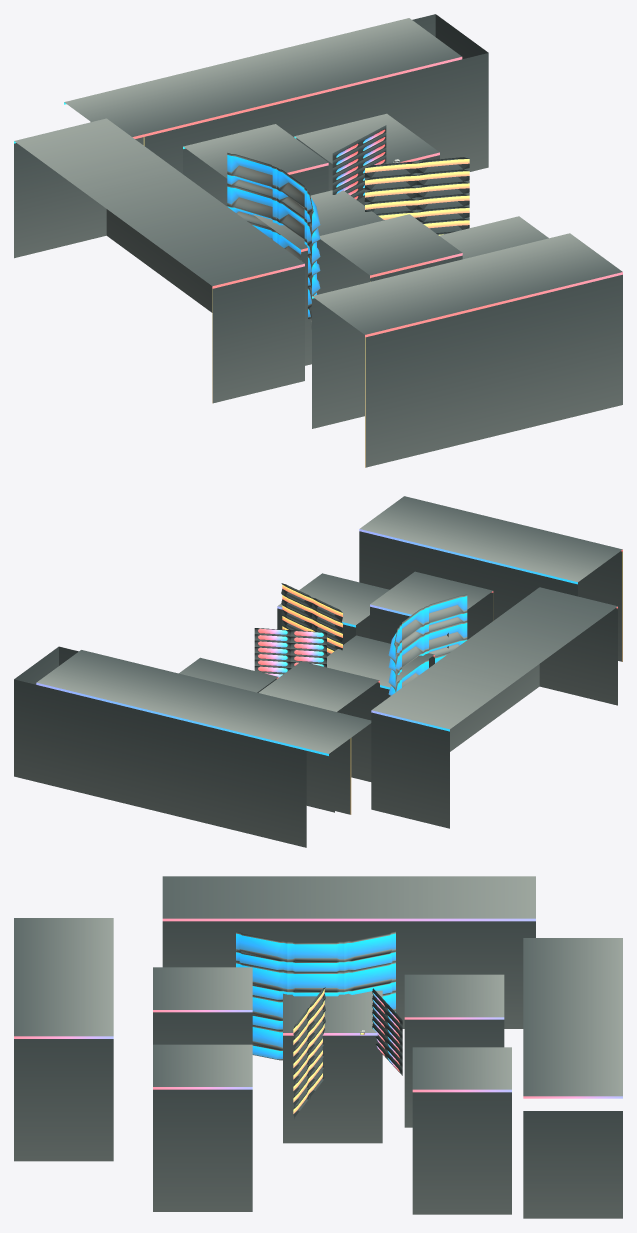
File: Cyberpunk_Scene0.2.glb
3 views of the same model, one above another, from view 1: azimuth 30°, elevation 25°; view 2: azimuth 150°, elevation 25°; view 3: azimuth 270°, elevation 25° (orthographic). The views are drawn at different scales.
Visible parts, largest first — view 1: Top.007, Top.003, Building.005, Building.003, Top.005, Building.007, Building.002, Building.004, Building.006, Building.001, Building, Top.002 (+14 smaller); view 2: Top.005, Top.003, Building.005, Building.003, Building.007, Top.007, Building.004, Building.002, Building, Building.001, Top.004, Top.002 (+6 smaller); view 3: Building.003, Building.005, Top.003, Top.001, Top.007, Top.006, Building.007, Top.005, Top, Building.004, Building.002, Building.001 (+15 smaller).
Boxes of the visible parts, left/top/right/bottom form: Top.007: left=312, top=274, right=622, bottom=467; Top.003: left=14, top=143, right=304, bottom=403; Building.005: left=64, top=18, right=462, bottom=138; Building.003: left=14, top=118, right=304, bottom=288; Top.005: left=135, top=14, right=488, bottom=173; Building.007: left=312, top=233, right=622, bottom=337; Building.002: left=320, top=214, right=462, bottom=277; Building.004: left=183, top=124, right=328, bottom=178; Building.006: left=294, top=113, right=439, bottom=163; Building.001: left=439, top=216, right=548, bottom=259; Building: left=252, top=190, right=383, bottom=251; Top.002: left=317, top=239, right=462, bottom=294; Top.005: left=14, top=646, right=351, bottom=847; Top.003: left=371, top=608, right=617, bottom=828; Building.005: left=36, top=650, right=371, bottom=755; Building.003: left=371, top=587, right=617, bottom=731; Building.007: left=359, top=496, right=622, bottom=584; Top.007: left=359, top=531, right=622, bottom=661; Building.004: left=258, top=661, right=379, bottom=711; Building.002: left=370, top=571, right=493, bottom=616; Building: left=327, top=635, right=434, bottom=689; Building.001: left=277, top=573, right=389, bottom=627; Top.004: left=306, top=682, right=379, bottom=812; Top.002: left=370, top=592, right=493, bottom=648; Building.003: left=162, top=876, right=535, bottom=921; Building.005: left=523, top=938, right=622, bottom=1098; Top.003: left=162, top=921, right=535, bottom=1028; Top.001: left=153, top=1089, right=252, bottom=1211; Top.007: left=14, top=1039, right=113, bottom=1161; Top.006: left=412, top=1092, right=511, bottom=1214; Building.007: left=14, top=918, right=113, bottom=1038; Top.005: left=523, top=1111, right=622, bottom=1218; Top: left=283, top=1035, right=382, bottom=1143; Building.004: left=404, top=974, right=504, bottom=1019; Building.002: left=153, top=967, right=252, bottom=1012; Building.001: left=153, top=1044, right=252, bottom=1089.
Size of the model in its own units: 610 by 241 by 731.
1 material, 1 textured.
